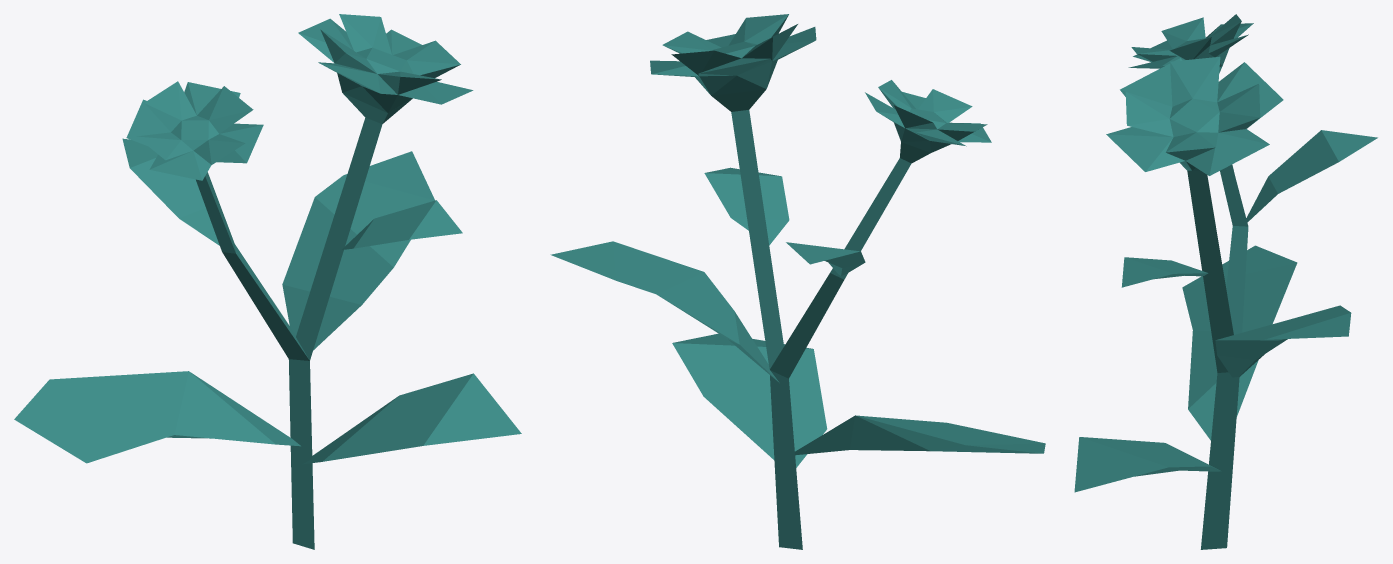
The model's file is SM_Flower_Calendula_Single_Mature.fbx.
The picture shows the model from 3 angles, left to right: view 1: azimuth 30°, elevation 25°; view 2: azimuth 150°, elevation 25°; view 3: azimuth 270°, elevation 25°; orthographic projection.
Visible parts, largest first — view 1: flower-calendula-single-mature; view 2: flower-calendula-single-mature; view 3: flower-calendula-single-mature.
Part boxes in pixels (box(x1,y1,x2,y2)): flower-calendula-single-mature: box(14, 14, 521, 549); flower-calendula-single-mature: box(550, 14, 1045, 549); flower-calendula-single-mature: box(1074, 14, 1377, 549).
Size of the model in its own units: 0.4624 by 0.5053 by 0.278.
